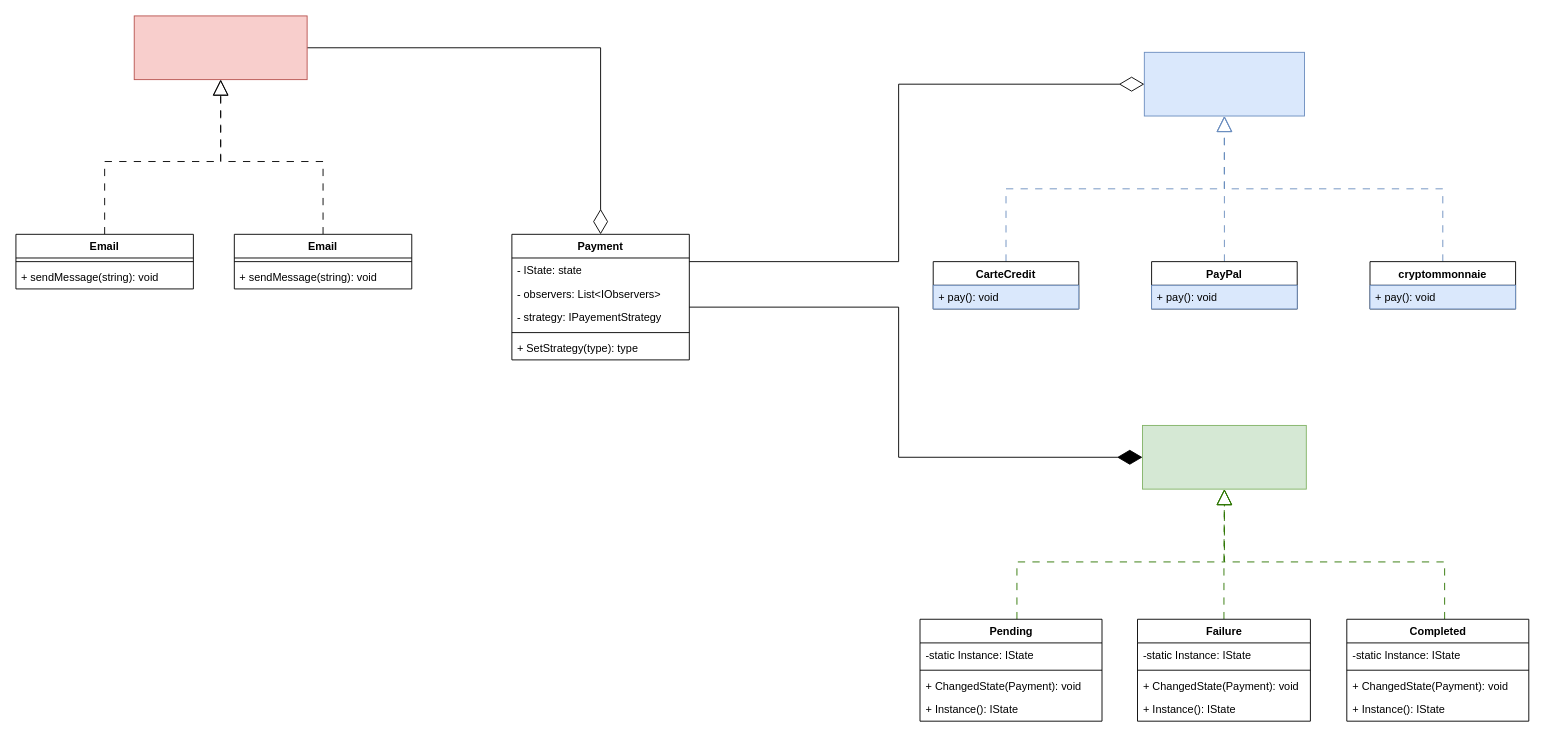
Image size: 1545x740. Some labels were removed from this diagram. The shapes that lost their labels are listed below. From the top down, each one's centre as x and y in pixels, then its label:
point 220,47: <<Interface>> IObserver + notify():
point 1223,83: <<Interface>> IPayementStrategy + pay(): void
point 1224,457: <<Interface>> IPaymentState + ChangedState():
